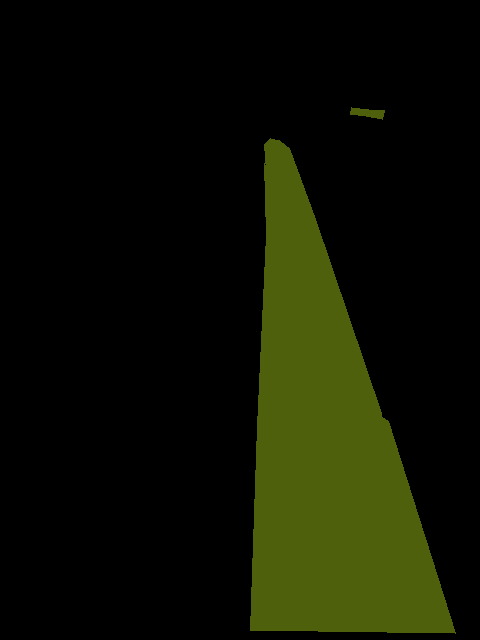Train: (250, 138, 455, 633), (350, 107, 384, 119)
